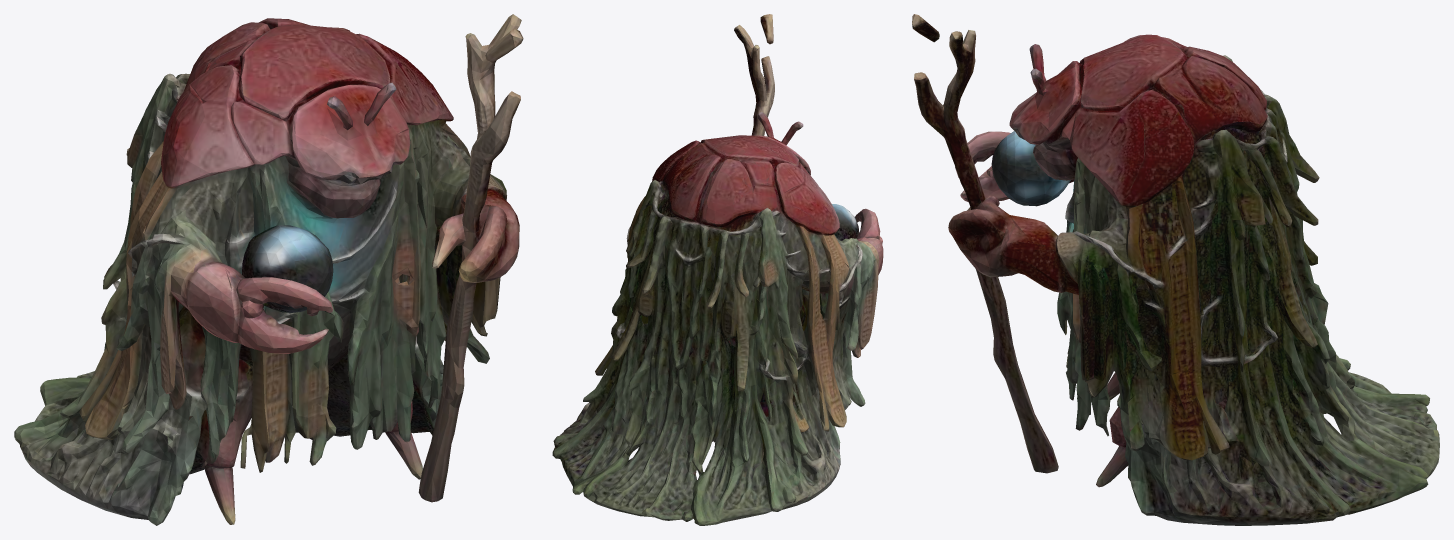
The model's file is blackPearlHermit.glb.
The picture shows the model from 3 angles, left to right: view 1: azimuth 30°, elevation 25°; view 2: azimuth 150°, elevation 25°; view 3: azimuth 270°, elevation 25°; orthographic projection. The views are drawn at different scales.
Visible parts, largest first — view 1: world; view 2: world; view 3: world.
Part boxes in pixels (x1,y1,x2,y2): world: (14,14,523,525); world: (552,14,883,525); world: (912,14,1439,525).
Size of the model in its own units: 0.7442 by 0.9905 by 1.
1 material, 1 textured.
